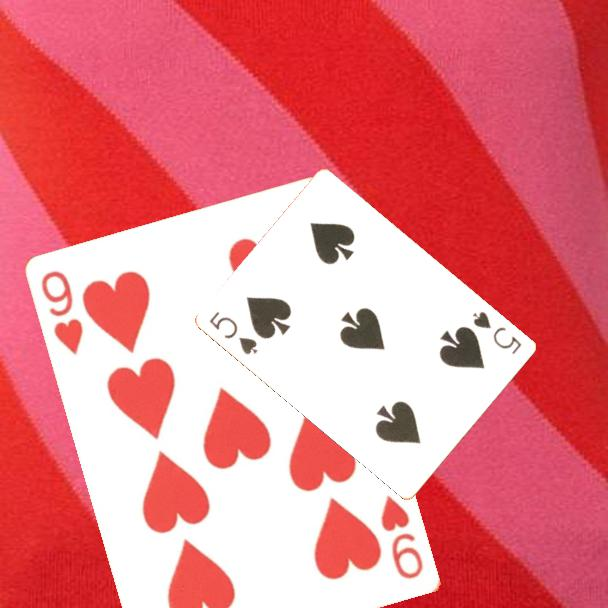h09: (377, 492, 427, 583), (38, 267, 87, 358)
s05: (206, 308, 261, 358), (469, 308, 525, 357)
